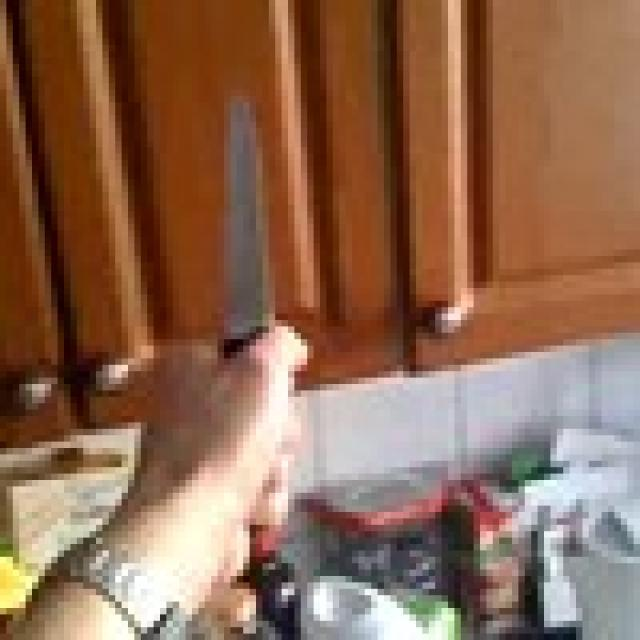Knife: (205, 83, 288, 371)
